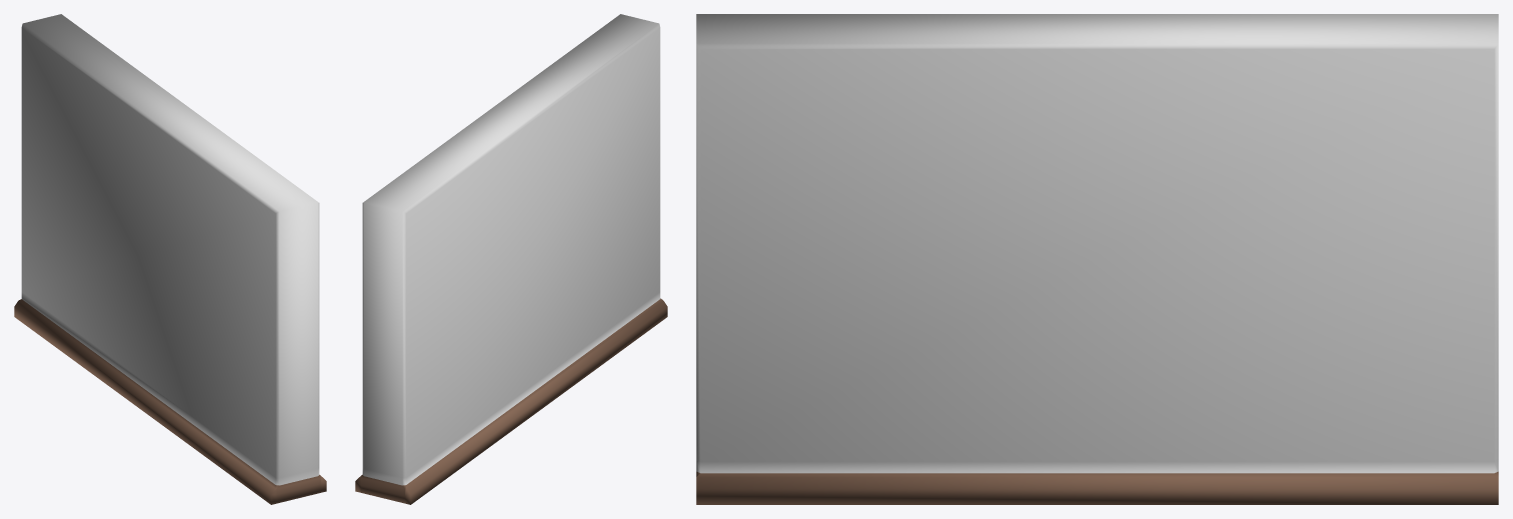
File: display wall.fbx
The picture shows the model from 3 angles, left to right: view 1: azimuth 30°, elevation 25°; view 2: azimuth 150°, elevation 25°; view 3: azimuth 270°, elevation 25°; orthographic projection. The views are drawn at different scales.
Parts seen in each view (by area): view 1: Cube; view 2: Cube; view 3: Cube.
Part boxes in pixels (x1,y1,x2,y2): Cube: [14, 14, 326, 504]; Cube: [355, 14, 667, 504]; Cube: [696, 14, 1498, 504].
Bounding box in the file's own units: 127 × 638 × 1020.
